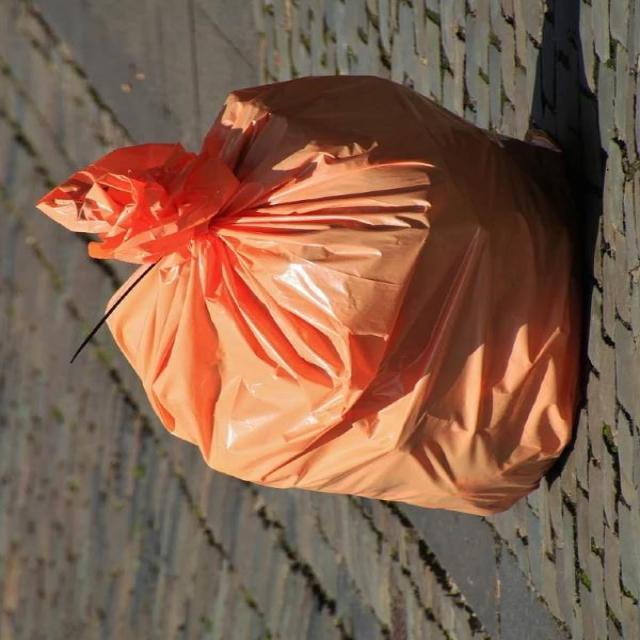sampah-detection: (35, 70, 590, 522)
